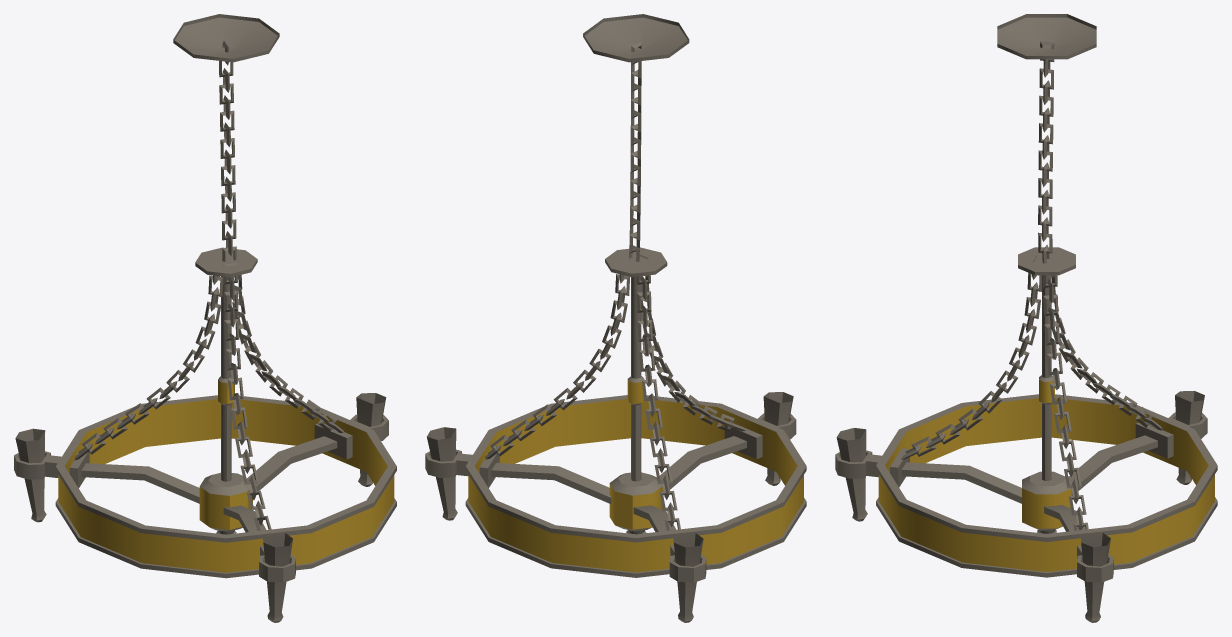
File: Chandelier.fbx
3 views of the same model, side by side, from view 1: azimuth 30°, elevation 25°; view 2: azimuth 150°, elevation 25°; view 3: azimuth 270°, elevation 25° (orthographic).
Visible parts, largest first — view 1: Chandeiler; view 2: Chandeiler; view 3: Chandeiler.
Boxes of the visible parts, x1,y1,x2,y2 form: Chandeiler: (14,14,396,622); Chandeiler: (425,14,806,622); Chandeiler: (835,14,1217,622).
Size of the model in its own units: 301 by 300 by 456.
